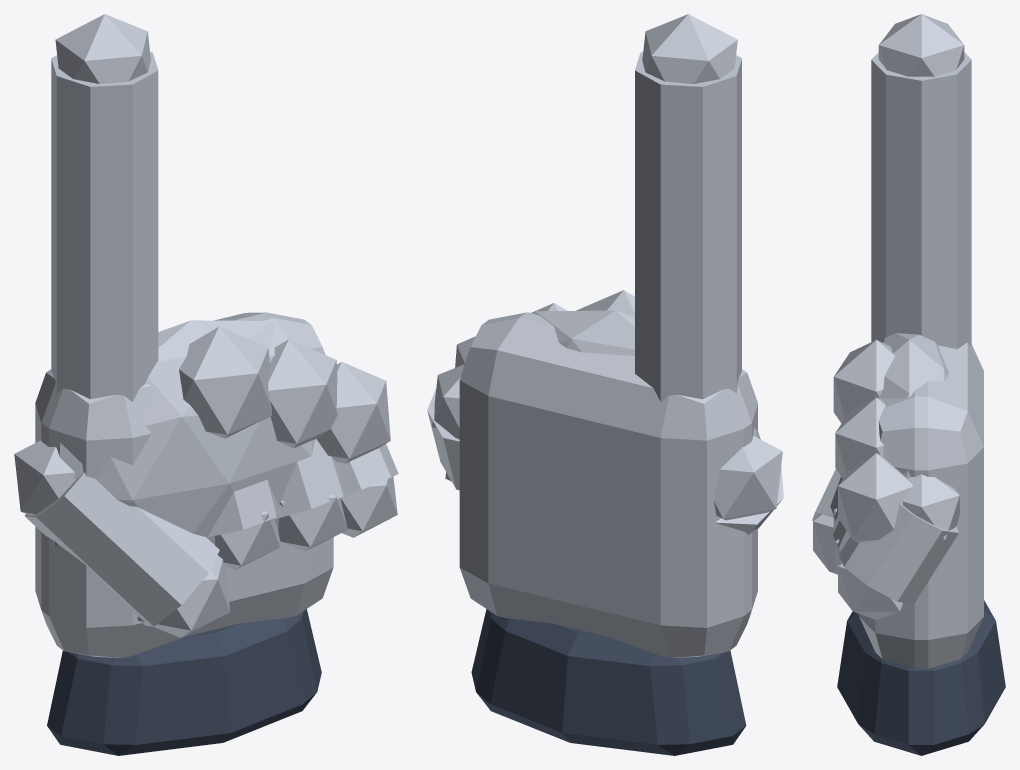
The model's file is PointingHand_LowPoly.fbx.
3 renders of one model, left to right at view 1: azimuth 30°, elevation 25°; view 2: azimuth 150°, elevation 25°; view 3: azimuth 270°, elevation 25°, orthographic. The views are drawn at different scales.
Parts seen in each view (by area): view 1: PointingHand_Glove, PointingHand_Cuff; view 2: PointingHand_Glove, PointingHand_Cuff; view 3: PointingHand_Glove, PointingHand_Cuff.
Part boxes in pixels (box(x1,y1,x2,y2)): PointingHand_Glove: box(14, 14, 398, 657); PointingHand_Cuff: box(47, 609, 321, 755); PointingHand_Glove: box(427, 14, 783, 657); PointingHand_Cuff: box(471, 609, 746, 755); PointingHand_Glove: box(812, 14, 983, 668); PointingHand_Cuff: box(837, 600, 1005, 755).
Size of the model in its own units: 0.1269 by 0.249 by 0.0671.
